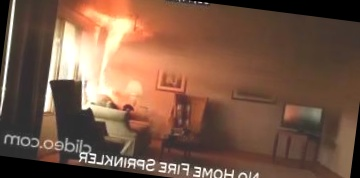fire: (67, 0, 156, 114)
